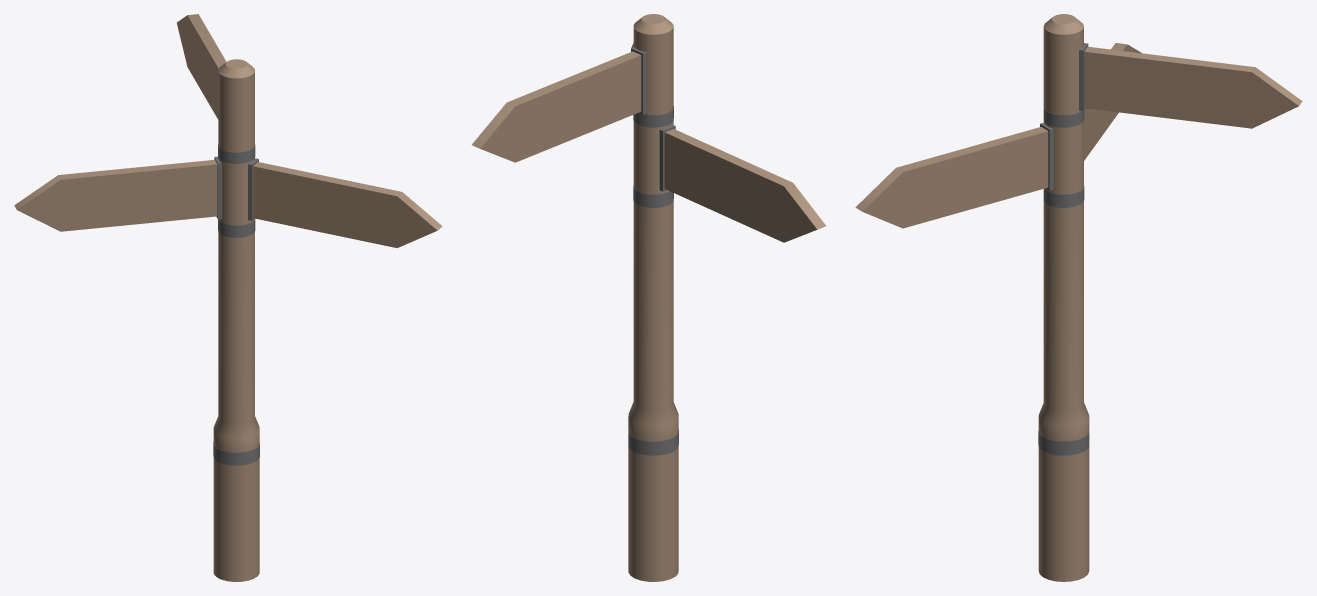
File: SignPost.fbx
3 views of the same model, side by side, from view 1: azimuth 30°, elevation 25°; view 2: azimuth 150°, elevation 25°; view 3: azimuth 270°, elevation 25° (orthographic). The views are drawn at different scales.
Parts seen in each view (by area): view 1: SignPost, Sign, Sign1, Sign2; view 2: SignPost, Sign2, Sign; view 3: SignPost, Sign2, Sign1, Sign.
Part boxes in pixels (x1,y1,x2,y2): SignPost: (213,59,259,581); Sign: (14,156,222,231); Sign1: (248,158,442,248); Sign2: (177,14,226,119); SignPost: (628,14,678,581); Sign2: (472,47,646,162); Sign: (659,124,826,242); SignPost: (1038,14,1089,581); Sign2: (1079,43,1302,128); Sign1: (855,122,1053,228); Sign: (1084,43,1141,160).
Bounding box in the file's own units: 9.42 × 15.11 × 11.09.
